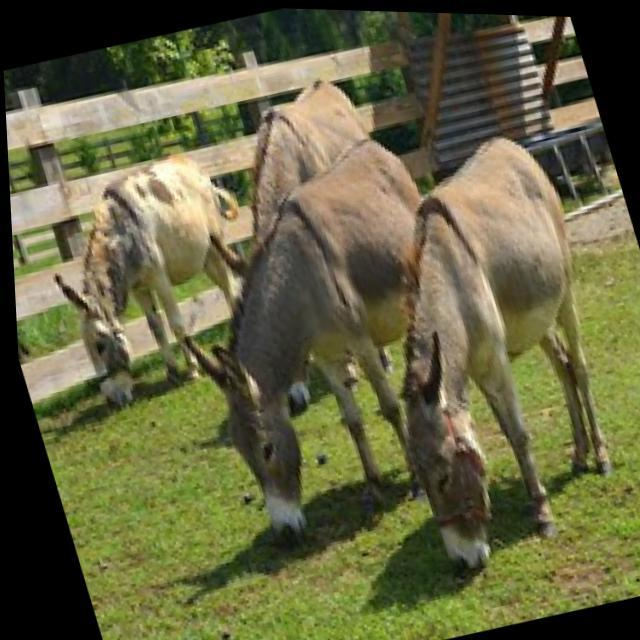Donkey: (138, 120, 528, 554), (320, 115, 640, 579), (23, 134, 288, 418), (210, 61, 398, 248)
